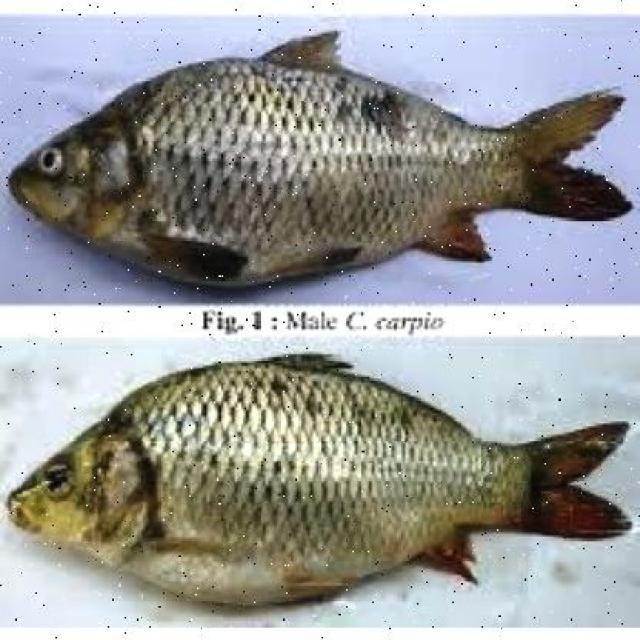ikan-mas: (13, 342, 624, 616), (8, 26, 632, 294)
